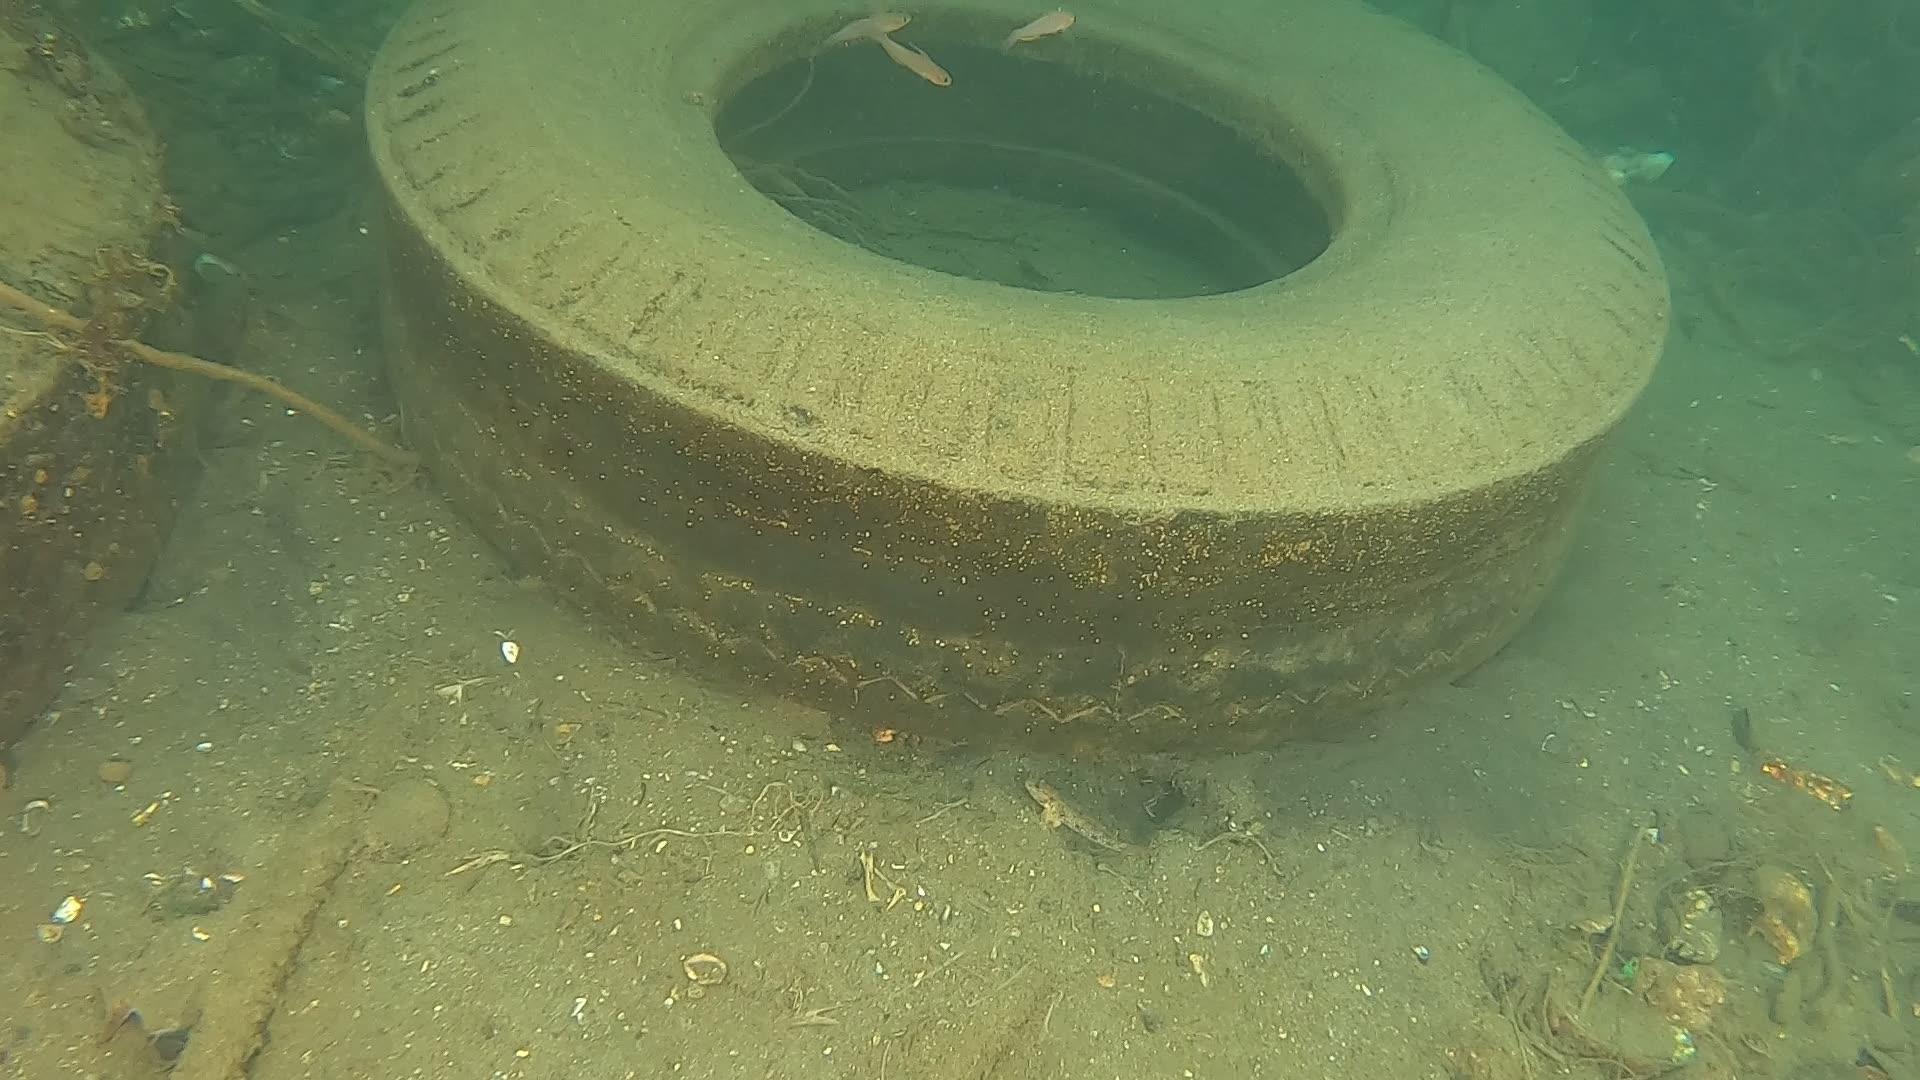tire: (359, 0, 1672, 749)
